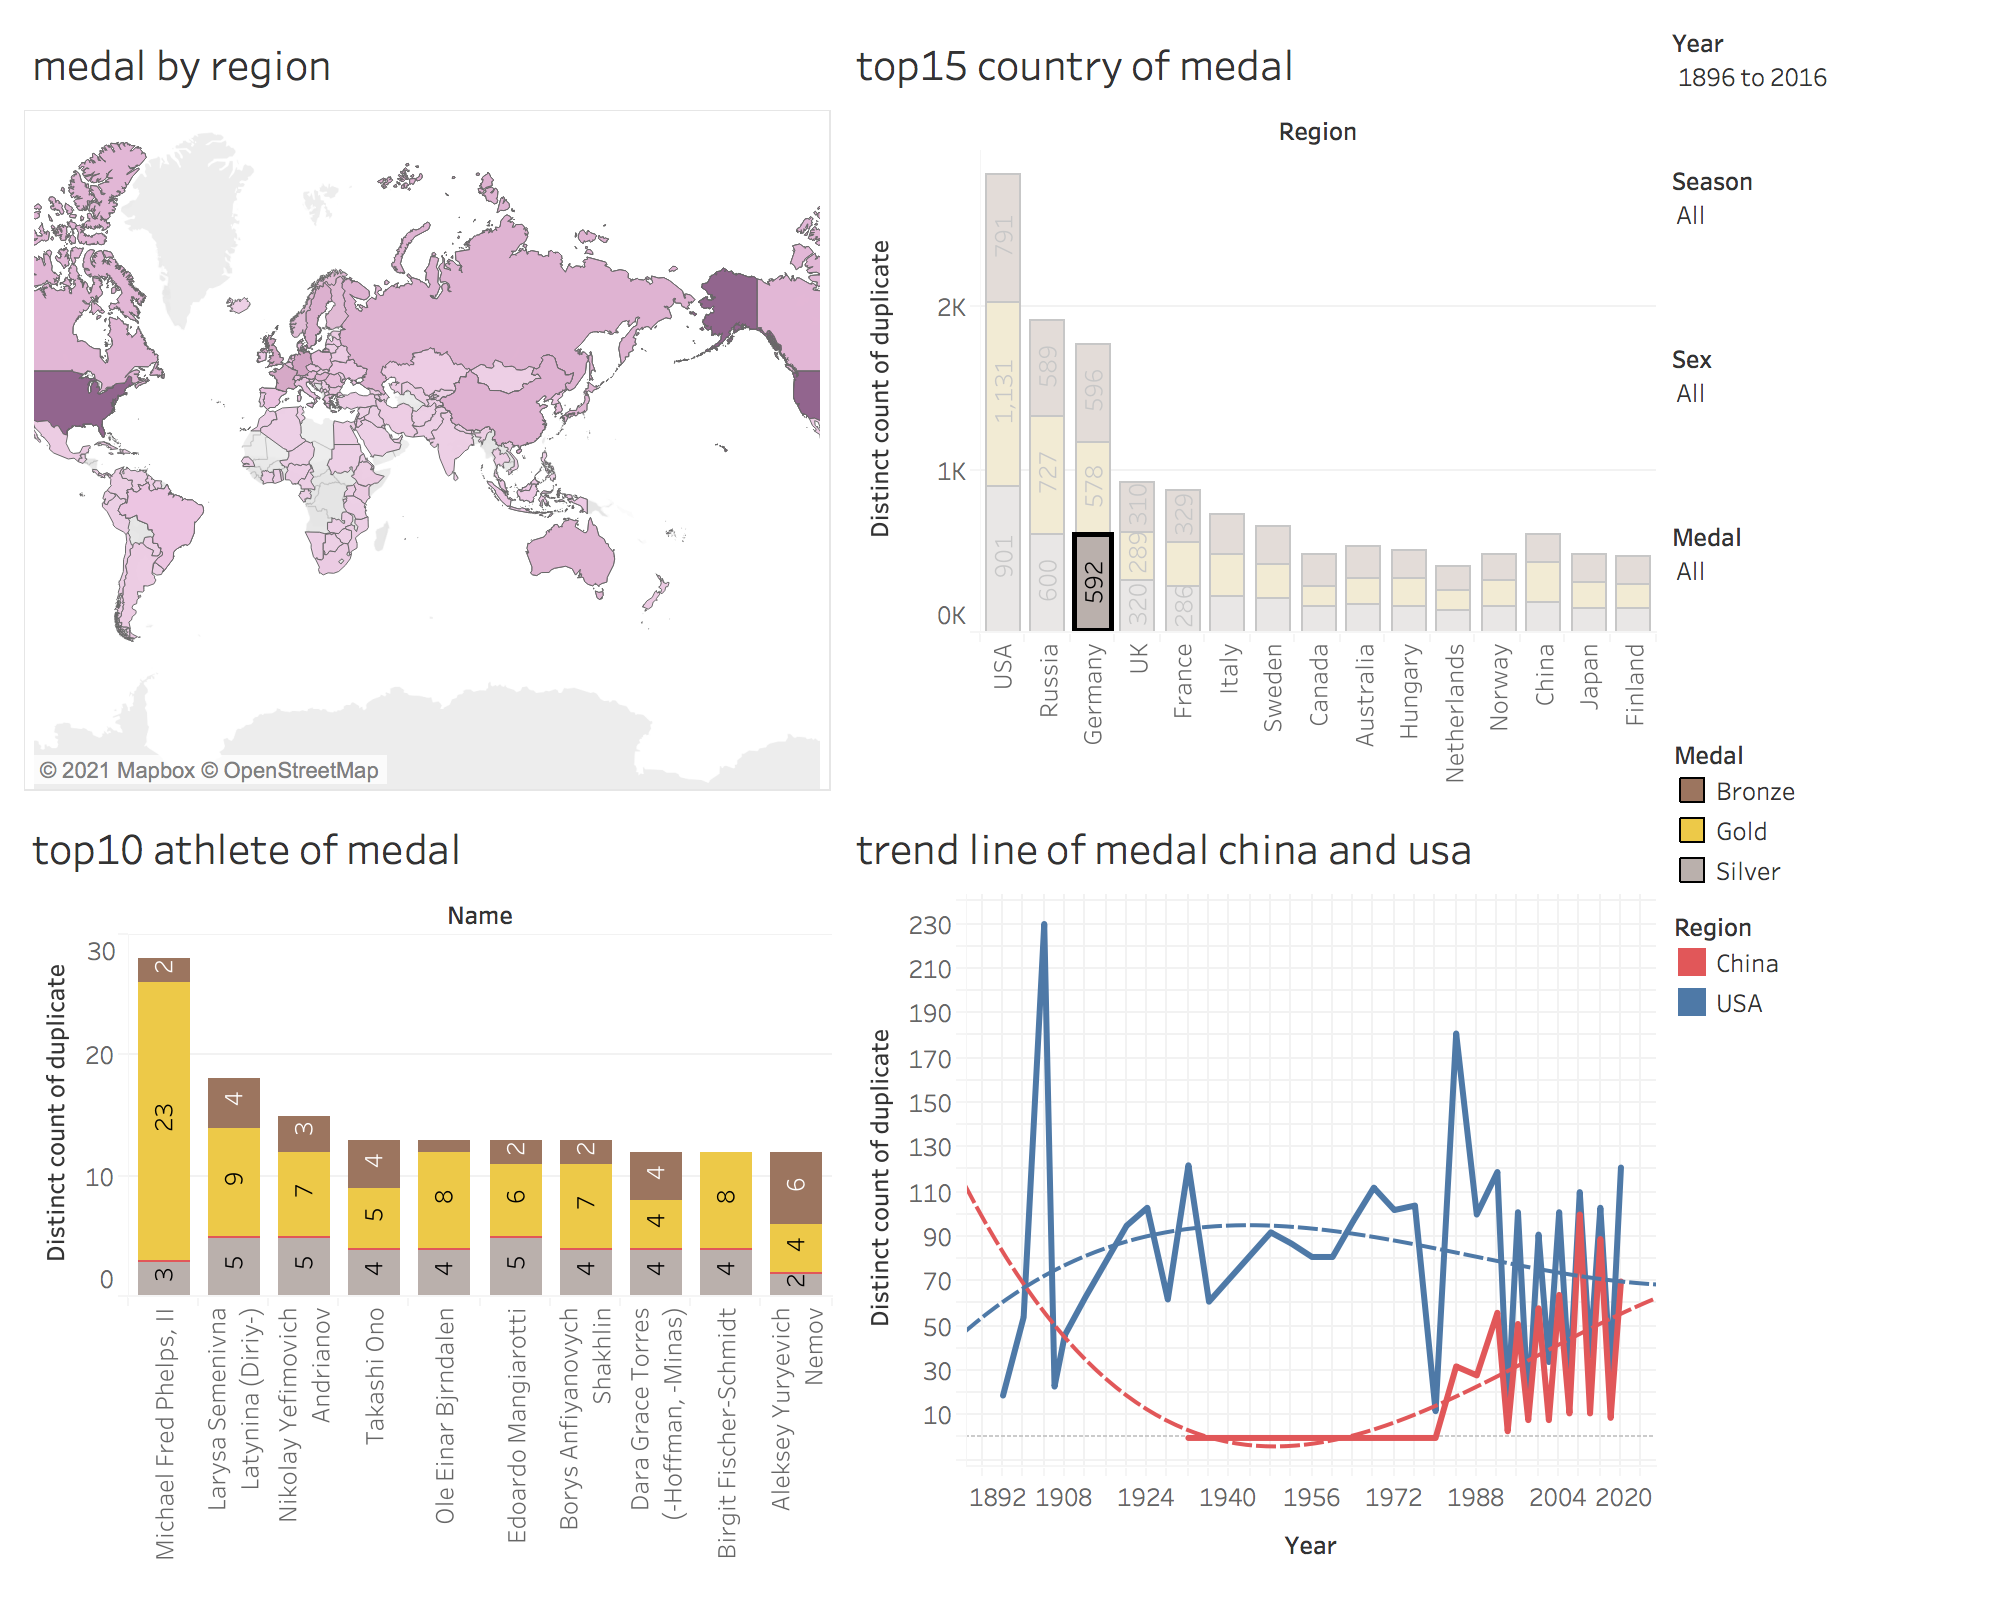

The dashboard page shown, as its layout file describes it:
{"tool":"tableau","page":{"name":"about medal","canvas":[1000,800],"ordinal":0},"visuals":[{"type":"worksheet","title":"medal by region","mark":"Multipolygon","box":[8,8,412,392]},{"type":"worksheet","title":"top15 country of medal","mark":"Automatic","rows":["Calculation_3398177051177095171"],"cols":["region"],"box":[420,8,412,392]},{"type":"filter","title":"medal by region","param":"[federated.18bi9qd1os8sq51epjqoa1im3gv3].[none:Year:qk]","box":[832,8,160,69]},{"type":"filter","title":"medal by region","param":"[federated.18bi9qd1os8sq51epjqoa1im3gv3].[none:Season:nk]","box":[832,77,160,89]},{"type":"filter","title":"medal by region","param":"[federated.18bi9qd1os8sq51epjqoa1im3gv3].[none:Sex:nk]","box":[832,166,160,89]},{"type":"filter","title":"medal by region","param":"[federated.18bi9qd1os8sq51epjqoa1im3gv3].[none:Medal (copy):nk]","box":[832,255,160,108]},{"type":"legend","title":"top15 country of medal","param":"[federated.18bi9qd1os8sq51epjqoa1im3gv3].[none:Medal (copy):nk]","box":[832,363,160,86]},{"type":"worksheet","title":"top10 athlete of medal","mark":"Automatic","rows":["Calculation_3398177051177095171"],"cols":["Name"],"box":[8,400,412,392]},{"type":"worksheet","title":"trend line of medal china and usa","mark":"Automatic","rows":["Calculation_3398177051177095171"],"cols":["Year"],"box":[420,400,412,392]},{"type":"legend","title":"trend line of medal china and usa","param":"[federated.18bi9qd1os8sq51epjqoa1im3gv3].[none:region:nk]","box":[832,449,160,66]}]}

Visuals, with their boxes in screenshot pixels (x1, y1, x2, y2), scaled from the page's 1000x800 canvas onto the 2000x1600 screenshot:
"medal by region" worksheet (Multipolygon marks): crop(16, 16, 840, 800)
"top15 country of medal" worksheet: crop(840, 16, 1664, 800)
"medal by region" filter: crop(1664, 16, 1984, 154)
"medal by region" filter: crop(1664, 154, 1984, 332)
"medal by region" filter: crop(1664, 332, 1984, 510)
"medal by region" filter: crop(1664, 510, 1984, 726)
"top15 country of medal" legend: crop(1664, 726, 1984, 898)
"top10 athlete of medal" worksheet: crop(16, 800, 840, 1584)
"trend line of medal china and usa" worksheet: crop(840, 800, 1664, 1584)
"trend line of medal china and usa" legend: crop(1664, 898, 1984, 1030)
